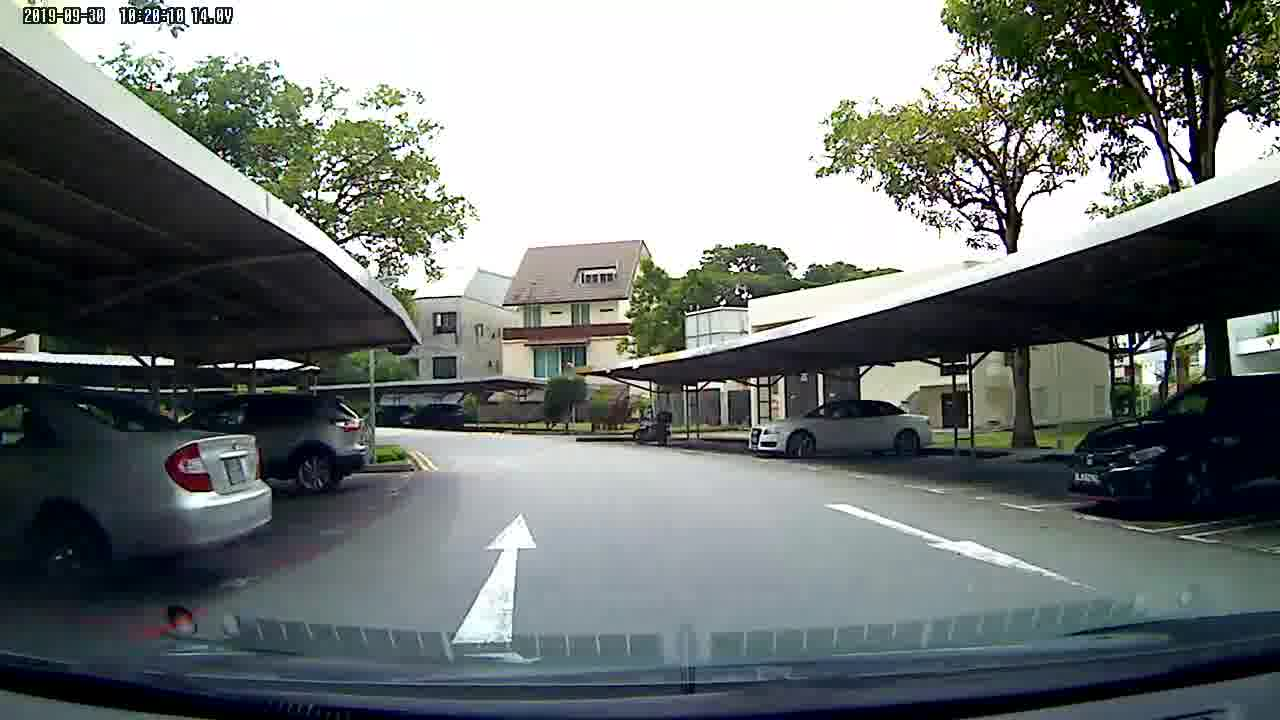car: (1, 376, 292, 600), (1065, 374, 1280, 512), (740, 392, 940, 466)
